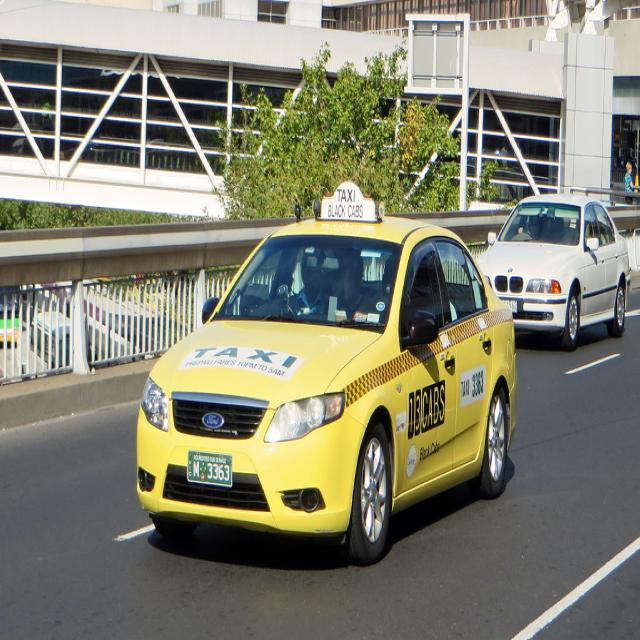car: (130, 204, 514, 558)
